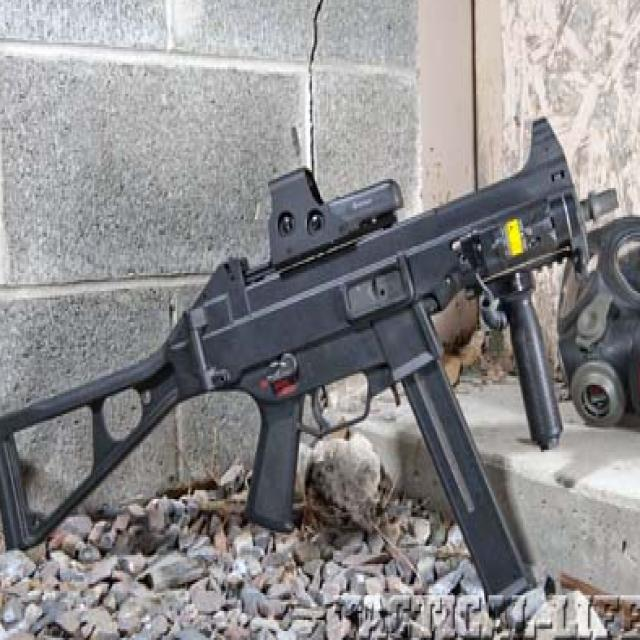Gun: (26, 129, 610, 607)
